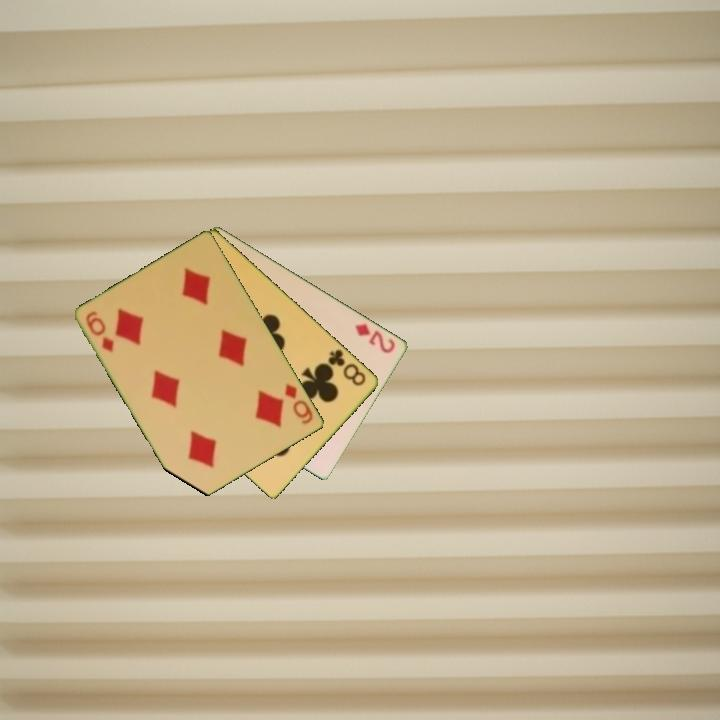2d: (352, 320, 399, 356)
6d: (281, 380, 316, 427), (82, 308, 117, 355)
8c: (325, 345, 369, 389)
